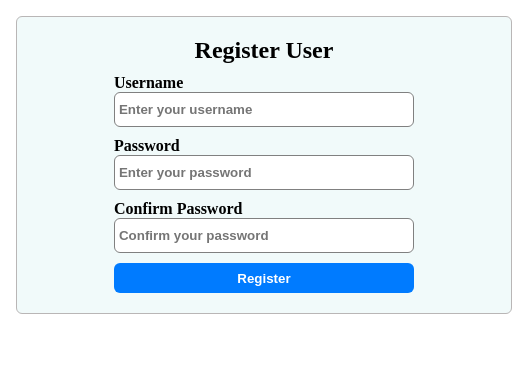
Test: RegisterPage › shows an error if username is less than 3 characters
The width and height of the screenshot is (529, 389).
Step 1. Type "ab" into the field labelled "Username" → (264, 110), box [114, 92, 414, 127]
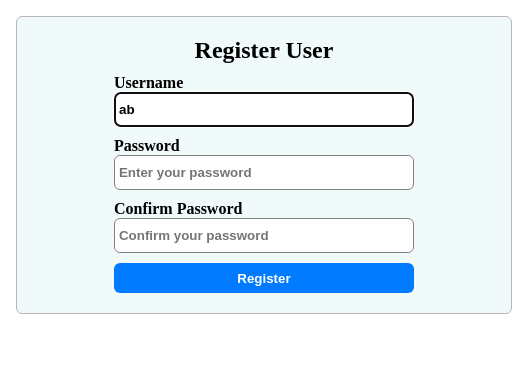
Step 2. Click the button with aria-label "Submit Registration" → (264, 278), box [114, 263, 414, 293]
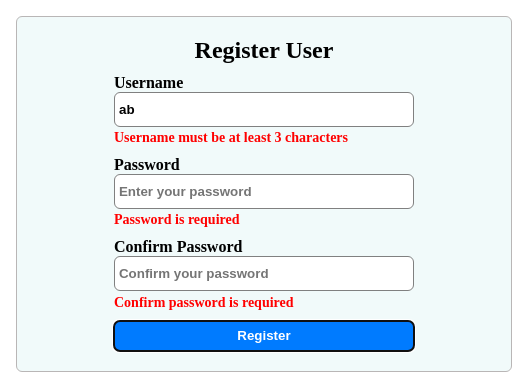
Expected: the text "Username must be at least 3 characters" is shown, [114, 130, 348, 145]
